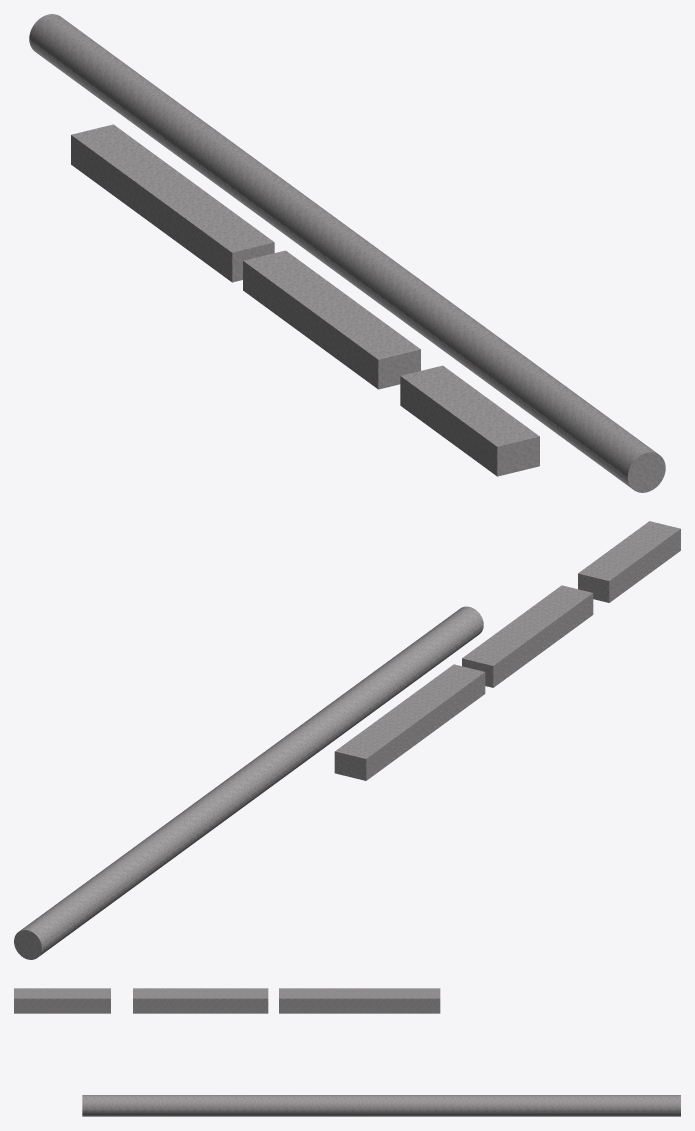
3 renders of one model, top to bottom at view 1: azimuth 30°, elevation 25°; view 2: azimuth 150°, elevation 25°; view 3: azimuth 270°, elevation 25°, orthographic. The views are drawn at different scales.
Parts seen in each view (by area): view 1: 0_0_2_1_2_3_3; view 2: 0_0_2_1_2_3_3; view 3: 0_0_2_1_2_3_3.
Part boxes in pixels (box(x1,y1,x2,y2)): 0_0_2_1_2_3_3: box(29, 14, 665, 492); 0_0_2_1_2_3_3: box(14, 521, 680, 959); 0_0_2_1_2_3_3: box(14, 988, 680, 1116).
Bounding box in the file's own units: 5 × 3 × 24.4.
4 materials, 4 textured.
